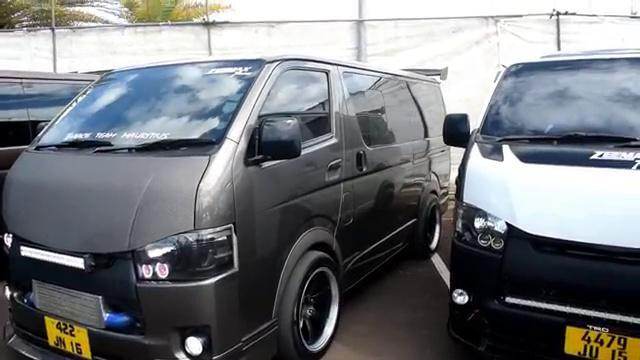van: (2, 55, 458, 358)
